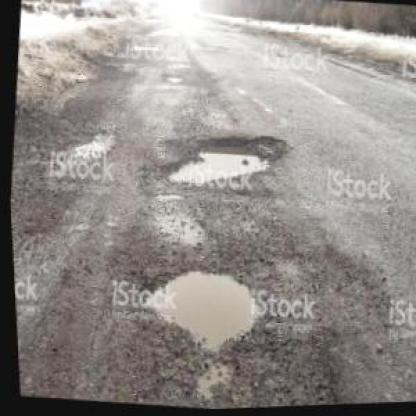pothole: (136, 258, 268, 356), (151, 122, 289, 197)
